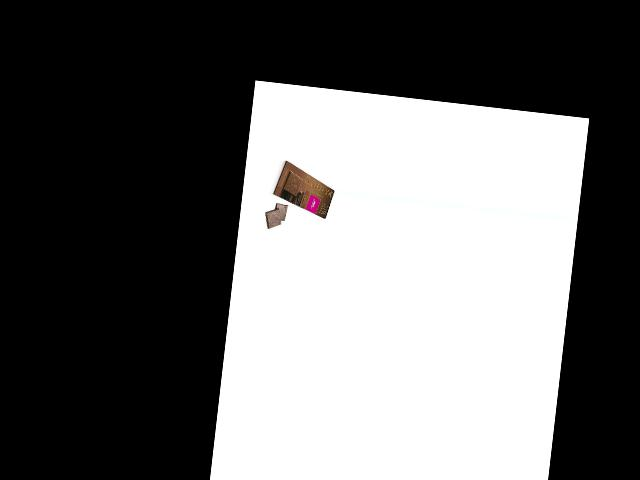chocolate: (269, 159, 338, 220)
